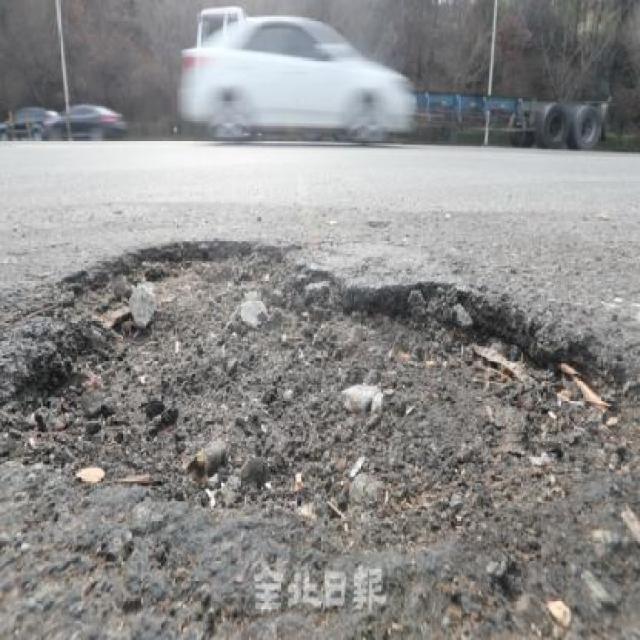Pothole: (9, 224, 638, 538)
